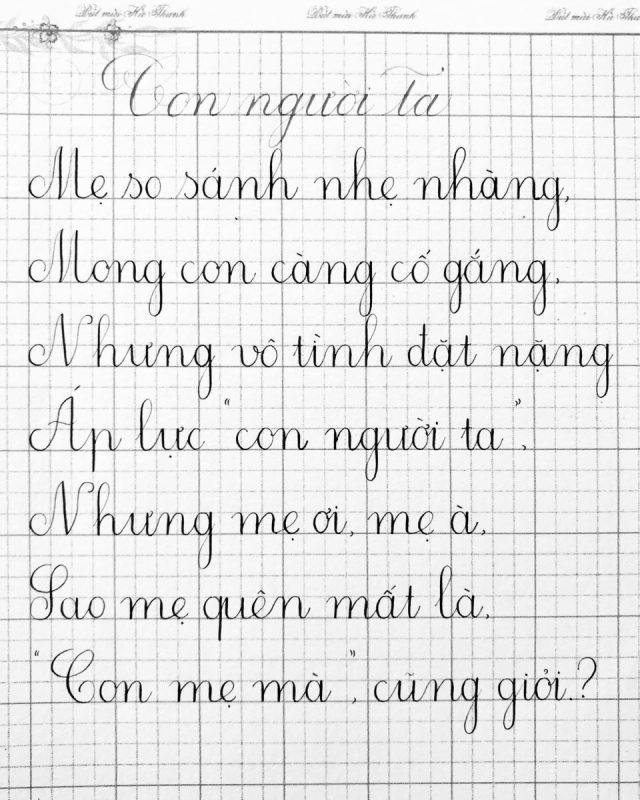text: (31, 643, 600, 740), (23, 312, 617, 404), (26, 382, 533, 487), (23, 141, 579, 233), (22, 226, 563, 319), (23, 479, 489, 573), (28, 560, 493, 647), (96, 47, 453, 149), (301, 1, 423, 23), (73, 0, 191, 21), (539, 6, 640, 22)
